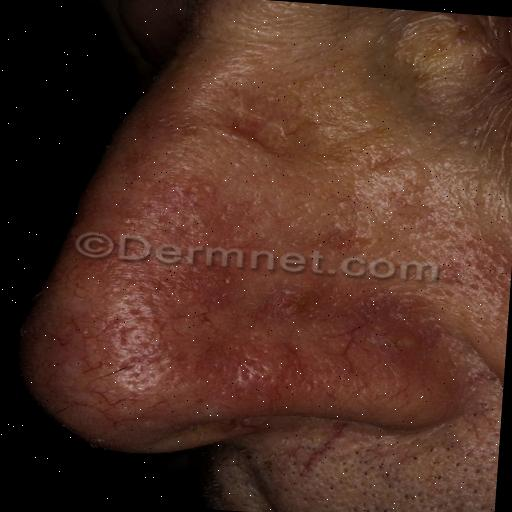Skin_Lesion: (364, 282, 434, 336), (231, 110, 284, 156), (207, 267, 238, 318), (282, 281, 312, 329), (324, 208, 354, 254), (308, 438, 332, 473), (62, 316, 84, 334)
